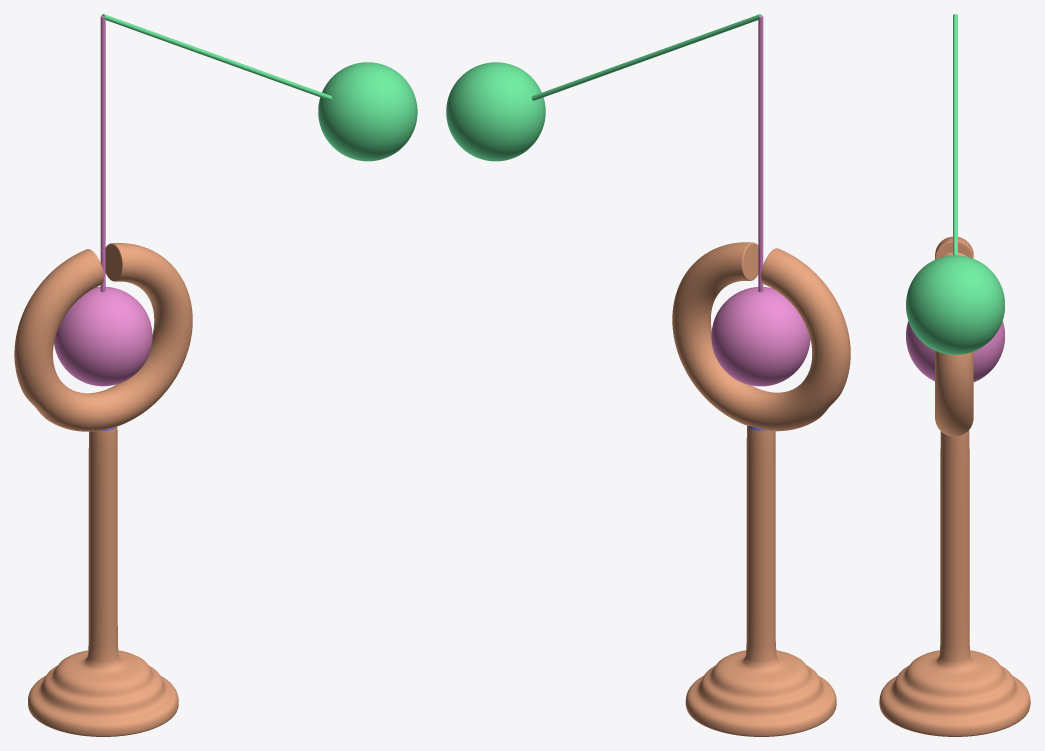
3 views of the same model, side by side, from view 1: azimuth 30°, elevation 25°; view 2: azimuth 150°, elevation 25°; view 3: azimuth 270°, elevation 25° (orthographic).
Parts seen in each view (by area): view 1: Cylinder.001, Cylinder, Sphere, Sphere.001; view 2: Cylinder.001, Cylinder, Sphere.001, Sphere; view 3: Cylinder, Sphere, Cylinder.001, Sphere.001.
Part boxes in pixels (x1,y1,x2,y2): Cylinder.001: [14, 243, 192, 431]; Cylinder: [28, 427, 178, 736]; Sphere: [102, 14, 417, 161]; Sphere.001: [54, 15, 152, 386]; Cylinder.001: [672, 242, 850, 431]; Cylinder: [685, 426, 836, 736]; Sphere.001: [711, 15, 810, 386]; Sphere: [446, 14, 761, 161]; Cylinder: [879, 430, 1030, 736]; Sphere: [906, 14, 1004, 354]; Cylinder.001: [935, 236, 973, 436]; Sphere.001: [906, 321, 1004, 381].
Size of what is drawn, in the model's own units: 5.99 by 10.04 by 1.98.
